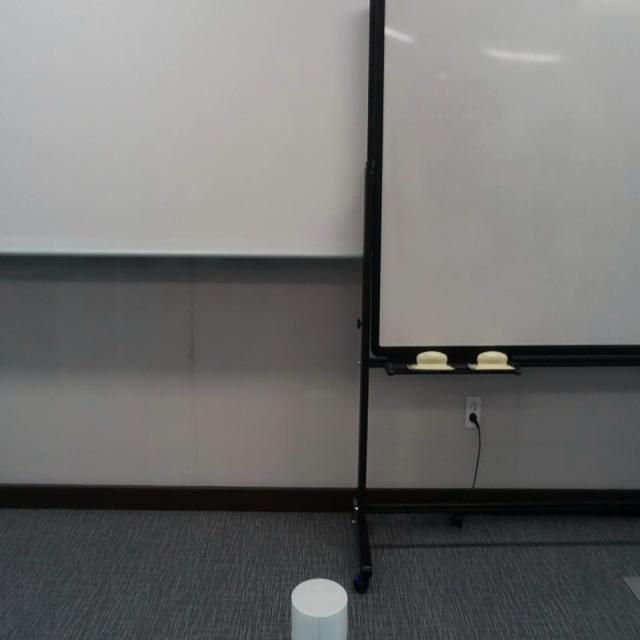cylinder: (291, 577, 348, 640)
